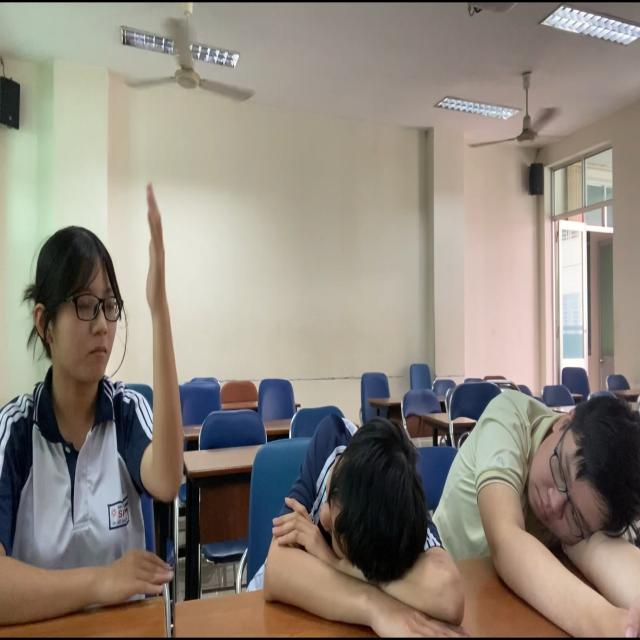raise_hand: (1, 176, 192, 640)
sleep: (442, 392, 640, 640), (257, 415, 460, 640)
